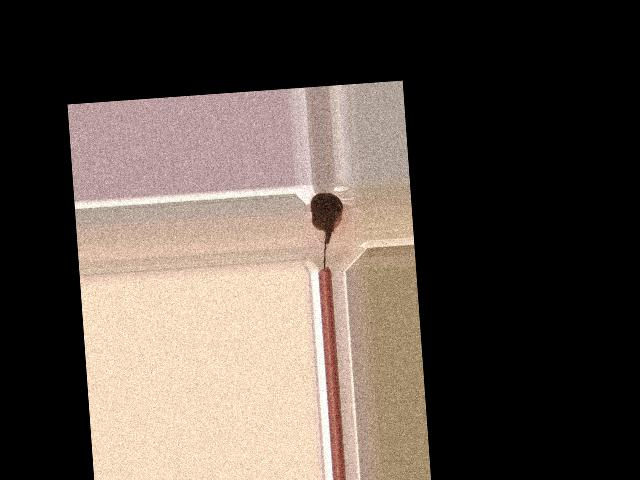beet: (310, 191, 347, 270)
